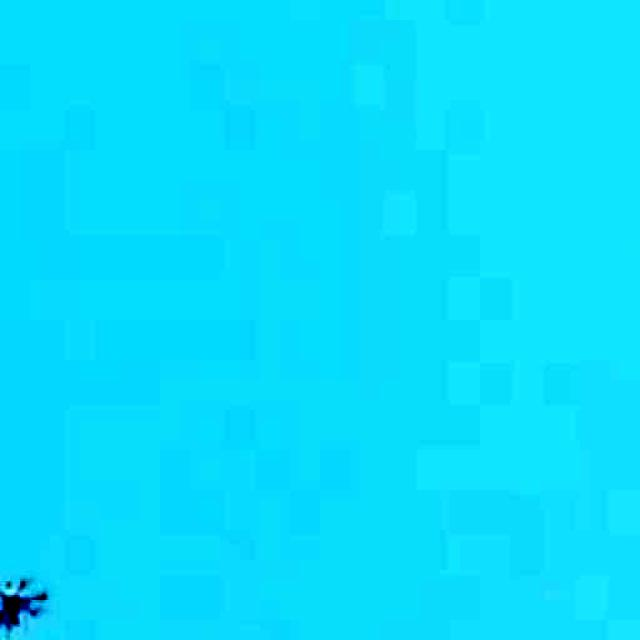bird: (0, 549, 60, 632)
